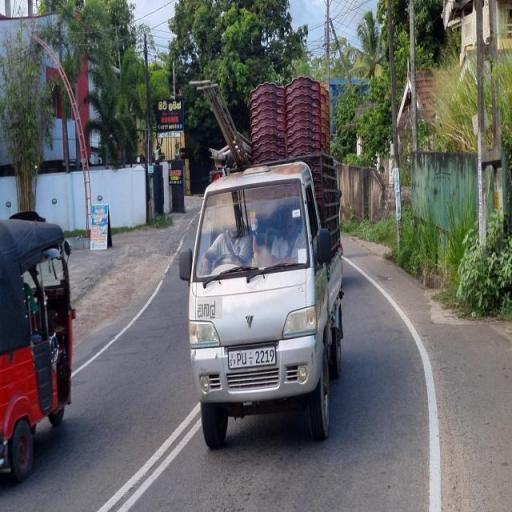double_white_line: (94, 400, 200, 510)
